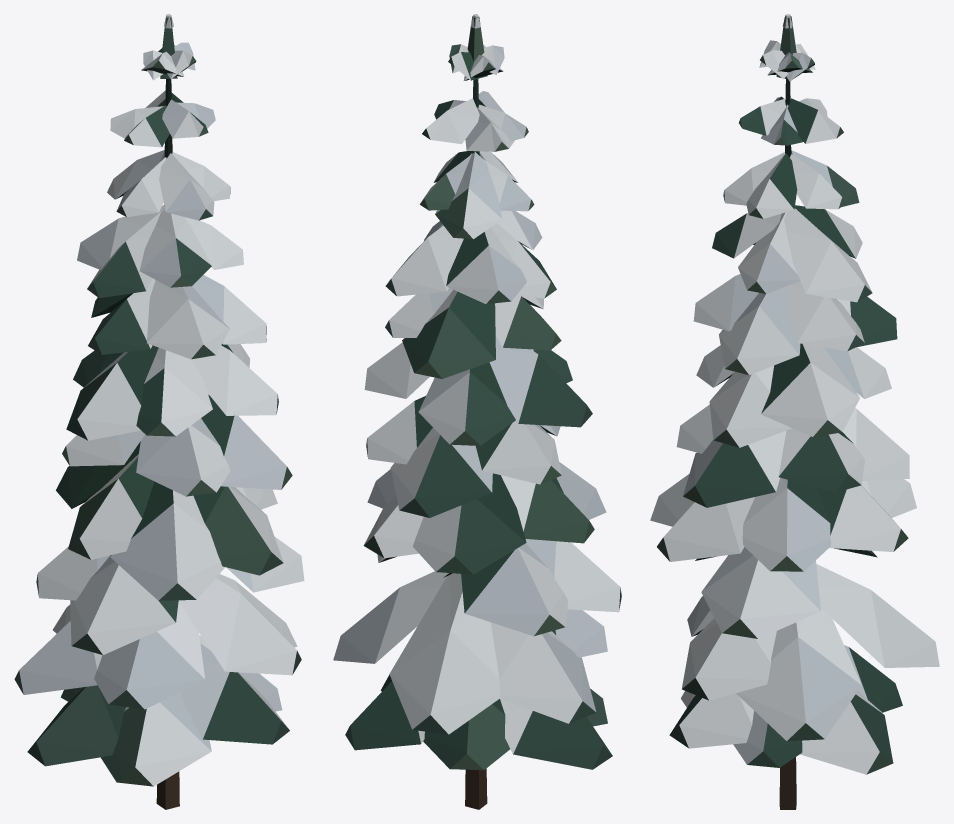
File: pine-snow.glb
The picture shows the model from 3 angles, left to right: view 1: azimuth 30°, elevation 25°; view 2: azimuth 150°, elevation 25°; view 3: azimuth 270°, elevation 25°; orthographic projection.
Visible parts, largest first — view 1: pine-snow; view 2: pine-snow; view 3: pine-snow.
Part boxes in pixels (left/top/right/bottom): pine-snow: left=14, top=14, right=304, bottom=809; pine-snow: left=333, top=14, right=621, bottom=809; pine-snow: left=650, top=14, right=939, bottom=809.
Size of the model in its own units: 3.36 by 9.72 by 3.22.
